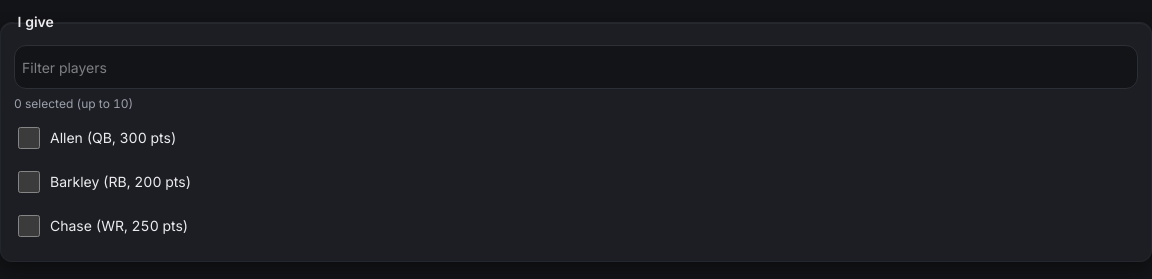
Test case: MultiSelect › filters by label
Type "chase" into the search field named "Filter I give" at (576, 67), box [14, 45, 1138, 89]
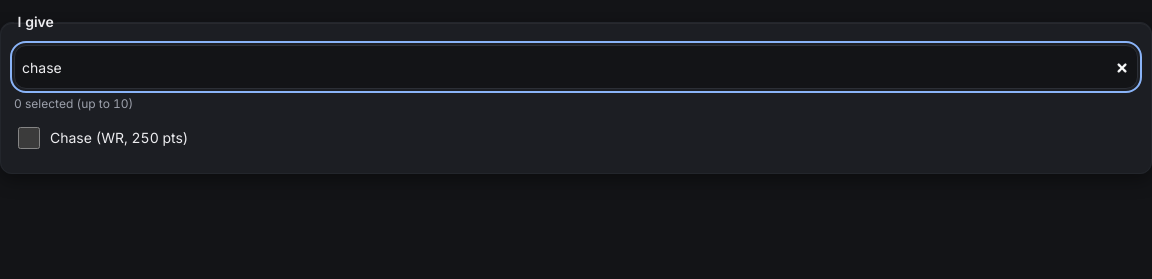
expect the checkbox labelled "Chase (WR, 250 pts)" is shown: met, box [18, 126, 40, 148]
expect the text "Allen" is gone: met
